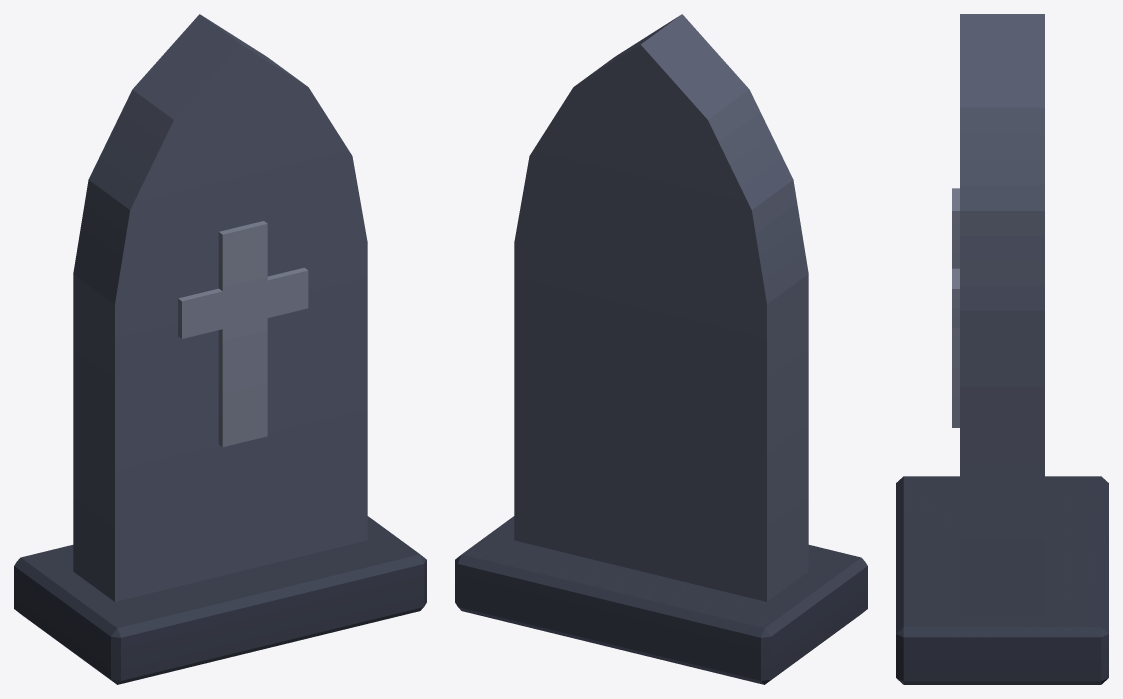
File: catedral-tombstone.glb
3 views of the same model, side by side, from view 1: azimuth 30°, elevation 25°; view 2: azimuth 150°, elevation 25°; view 3: azimuth 270°, elevation 25° (orthographic). The views are drawn at different scales.
Parts seen in each view (by area): view 1: tombstone; view 2: tombstone; view 3: tombstone.
Boxes of the visible parts, left/top/right/bottom form: tombstone: left=14, top=14, right=426, bottom=684; tombstone: left=455, top=14, right=867, bottom=684; tombstone: left=896, top=14, right=1108, bottom=684.
Size of the model in its own units: 0.7 by 1.23 by 0.4.
Materials: 1 (1 with a texture image).
